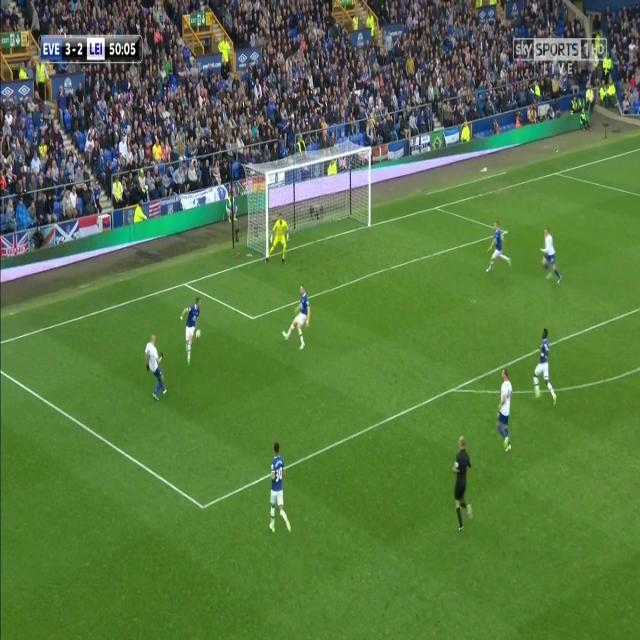Ball: (193, 326, 203, 342)
Goalkeeper: (265, 213, 291, 266)
Player: (267, 442, 292, 536), (281, 282, 311, 352), (143, 331, 169, 402), (495, 367, 514, 454), (485, 219, 514, 276), (539, 224, 563, 288), (180, 295, 201, 368)
Referee: (450, 434, 477, 535)
